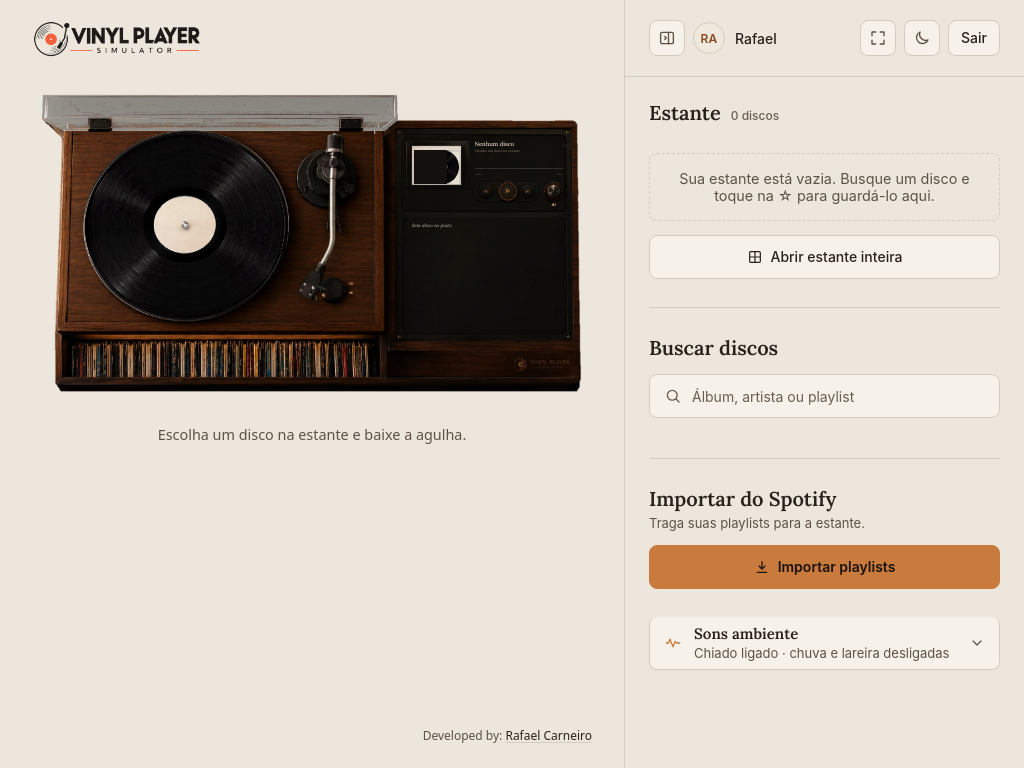
Test: App › T55/T58: clicar na gaveta de discos abre a coleção
Click the button named "Abrir estante".
click(224, 357)  # box [70,337,378,377]
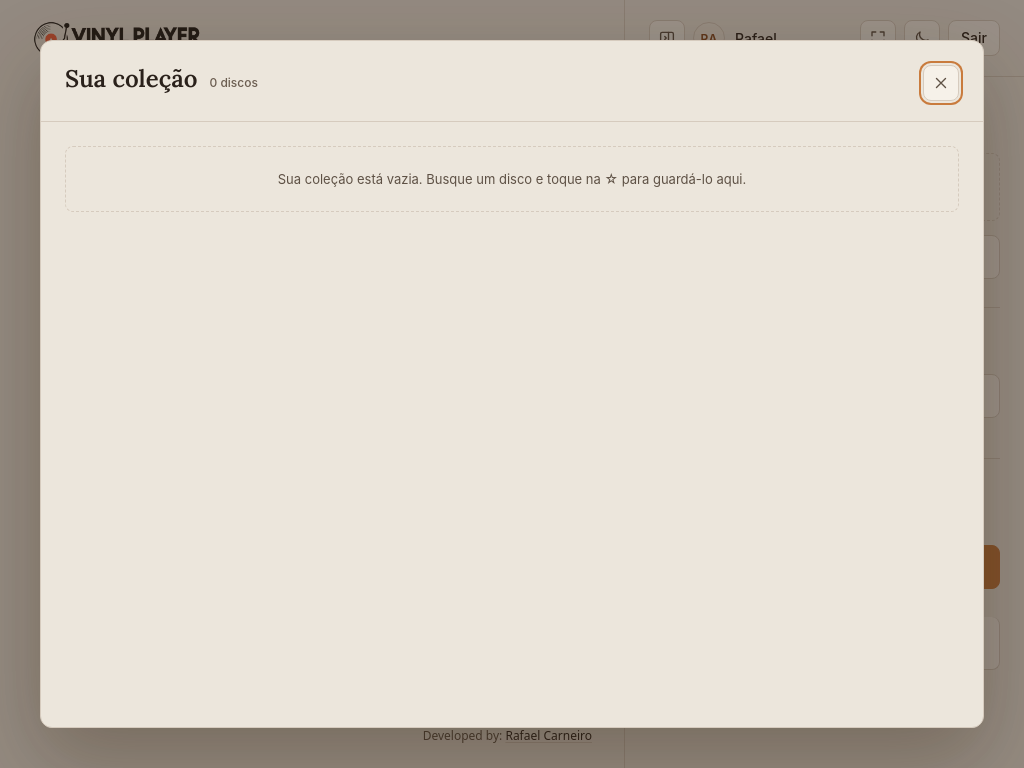
Check: the dialog "Sua coleção" is shown
